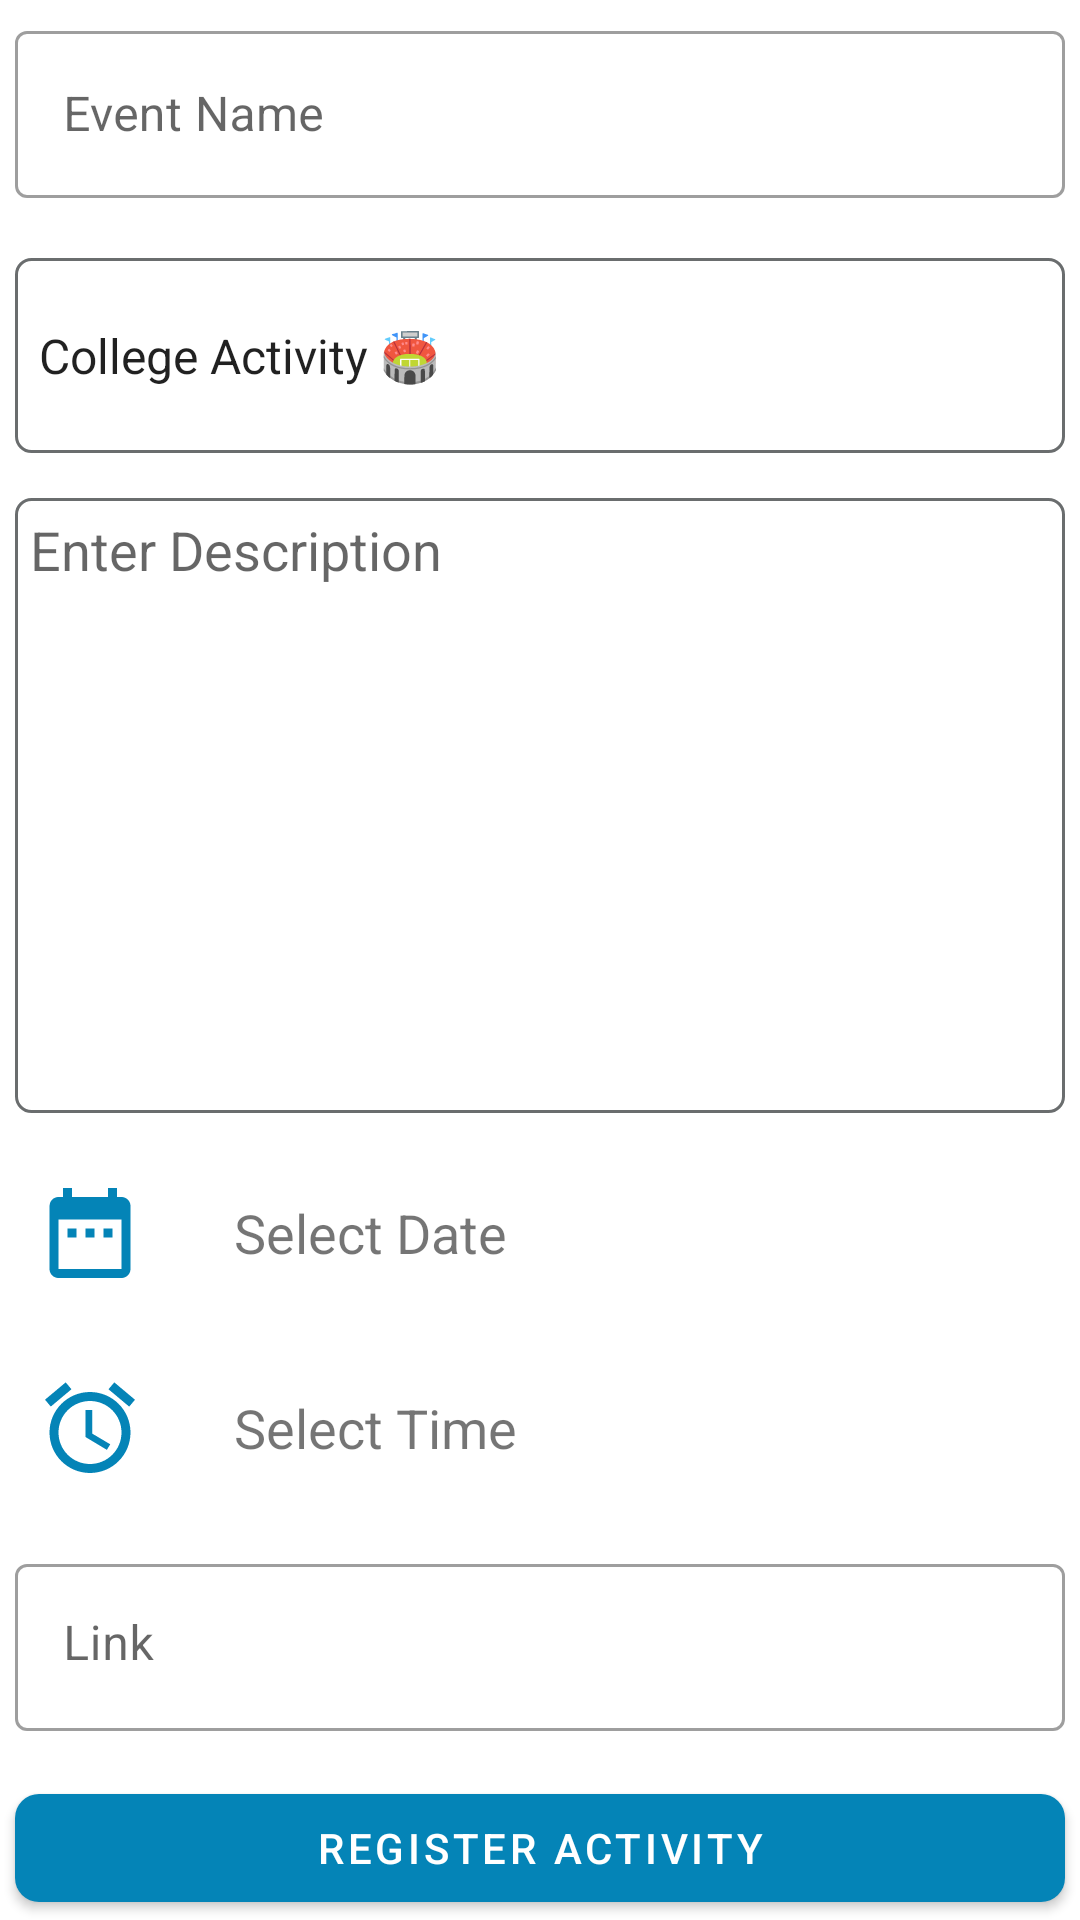

Icon bounding boxes for this 1080 x 1920 phone screenshot, format (x1, y1, x2, y2):
date pic: (49, 1188, 131, 1278)
time pick: (45, 1382, 135, 1473)
